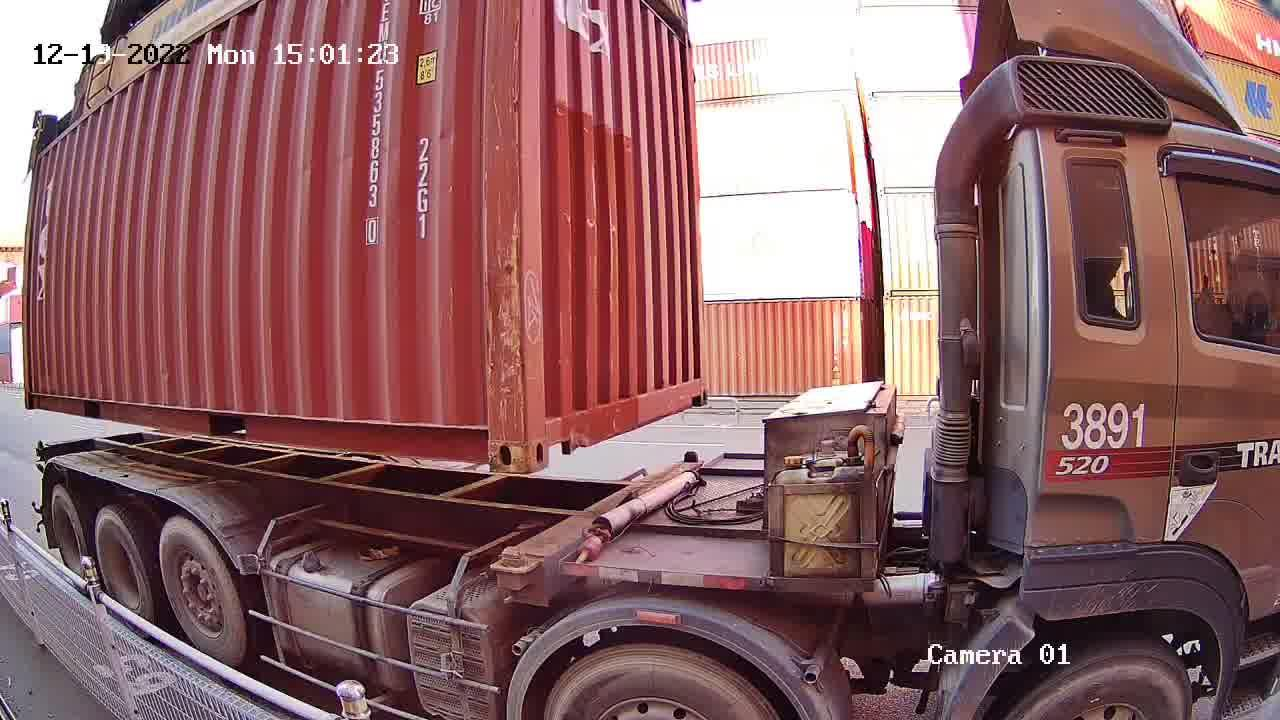Cone: (491, 546, 532, 600), (679, 447, 703, 462)
Hole_L: (525, 397, 577, 474)
Hole_R: (453, 405, 526, 475), (683, 367, 710, 410)
Tire: (159, 521, 240, 662), (95, 511, 144, 612), (50, 486, 84, 574)
